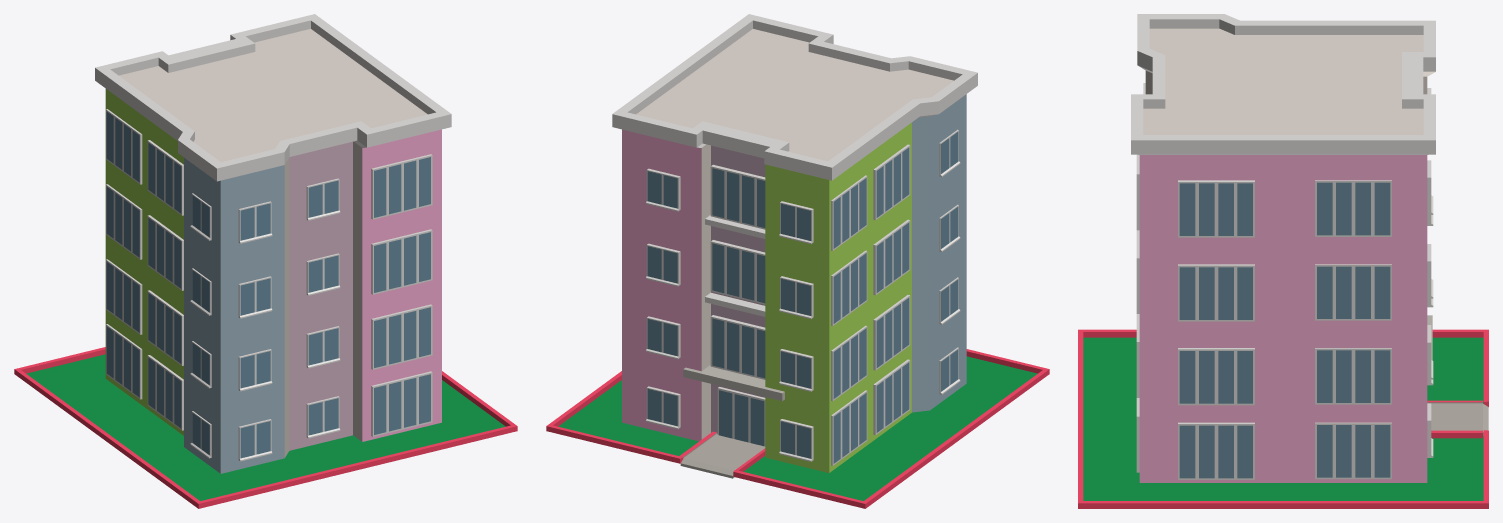
The model's file is apartment_lonely.fbx.
The picture shows the model from 3 angles, left to right: view 1: azimuth 30°, elevation 25°; view 2: azimuth 150°, elevation 25°; view 3: azimuth 270°, elevation 25°; orthographic projection. The views are drawn at different scales.
Parts seen in each view (by area): view 1: Appartment, Ground; view 2: Appartment, Ground; view 3: Appartment, Ground.
Boxes of the visible parts, x1=… form: Appartment: x1=95, y1=14, x2=451, y2=473; Ground: x1=14, y1=347, x2=517, y2=508; Appartment: x1=612, y1=14, x2=977, y2=472; Ground: x1=546, y1=349, x2=1049, y2=508; Appartment: x1=1131, y1=14, x2=1435, y2=482; Ground: x1=1078, y1=329, x2=1488, y2=508.
Bounding box in the file's own units: 20 × 18.7 × 20.
